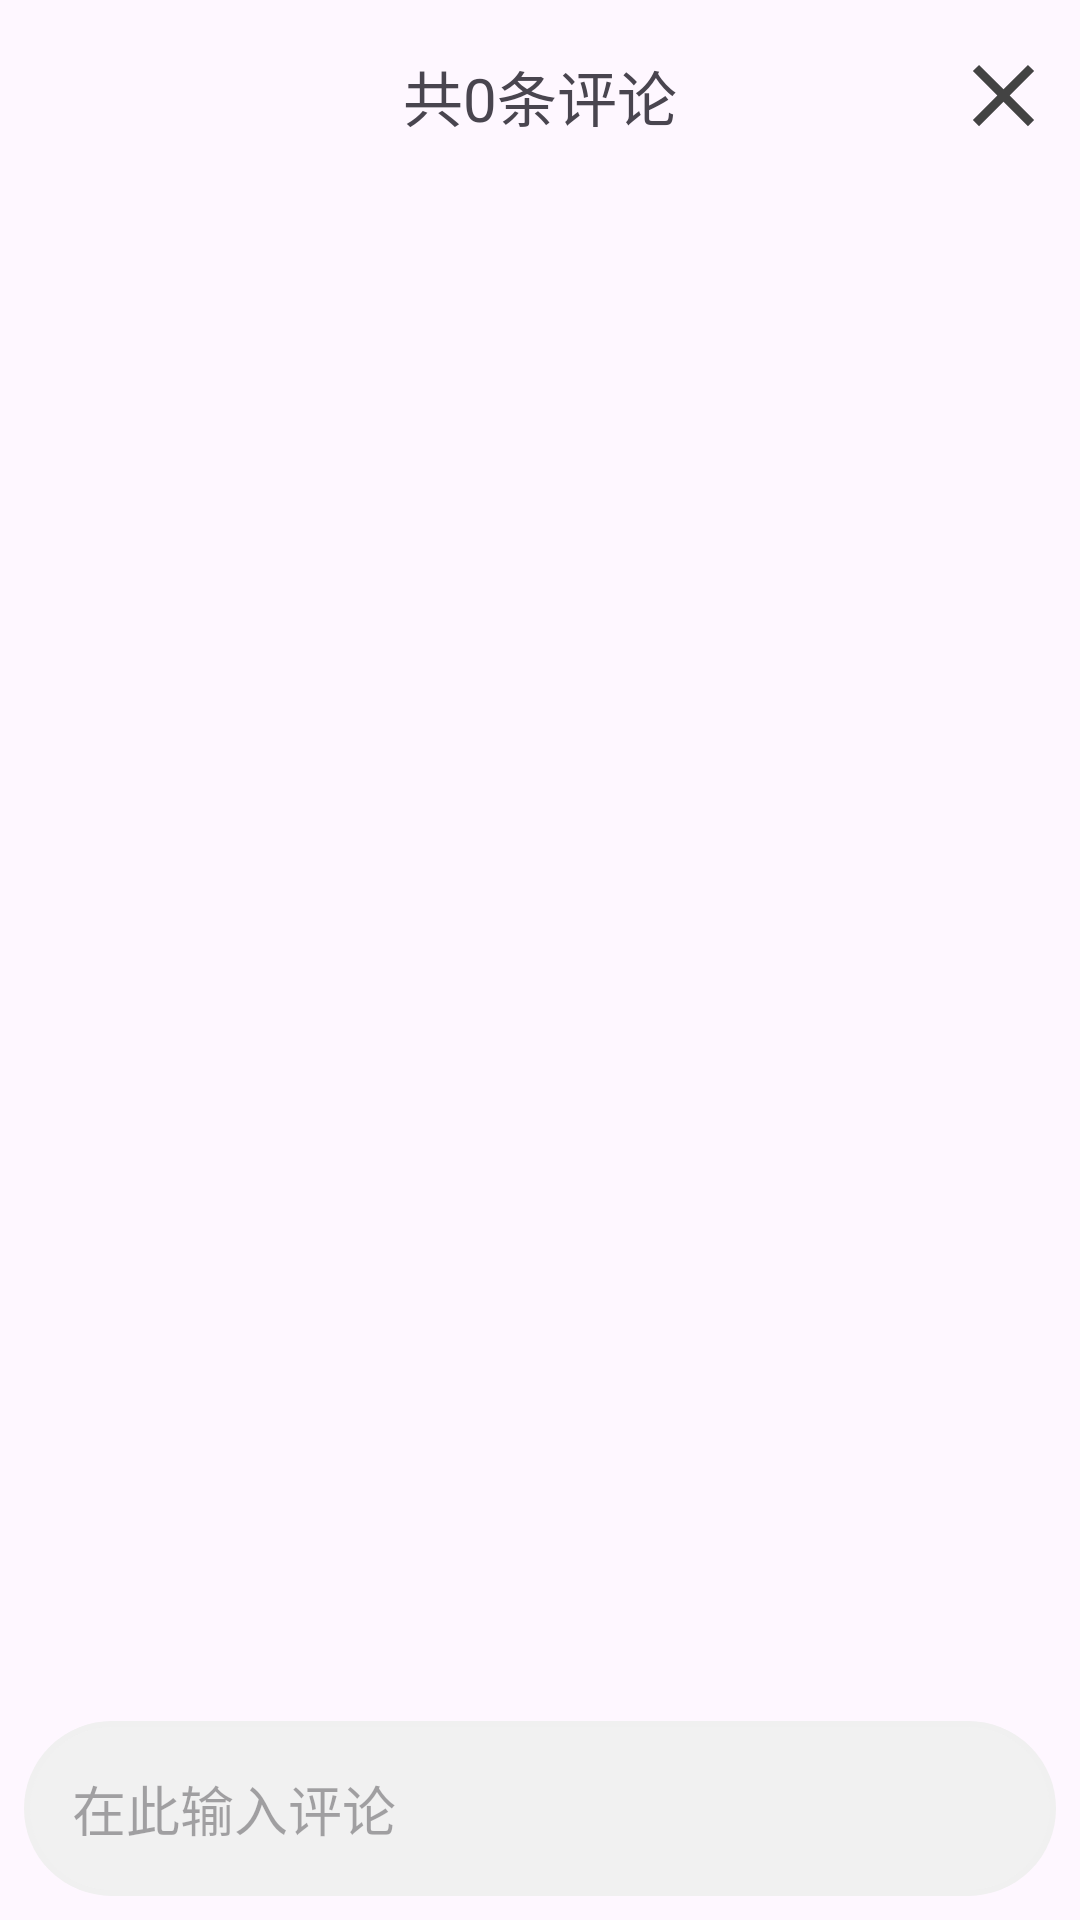

Named icons in this screenshot (1080*1920) and their bounding boxes, bbox=(x1, y1, x2, y2):
close: bbox=(973, 65, 1034, 126)
